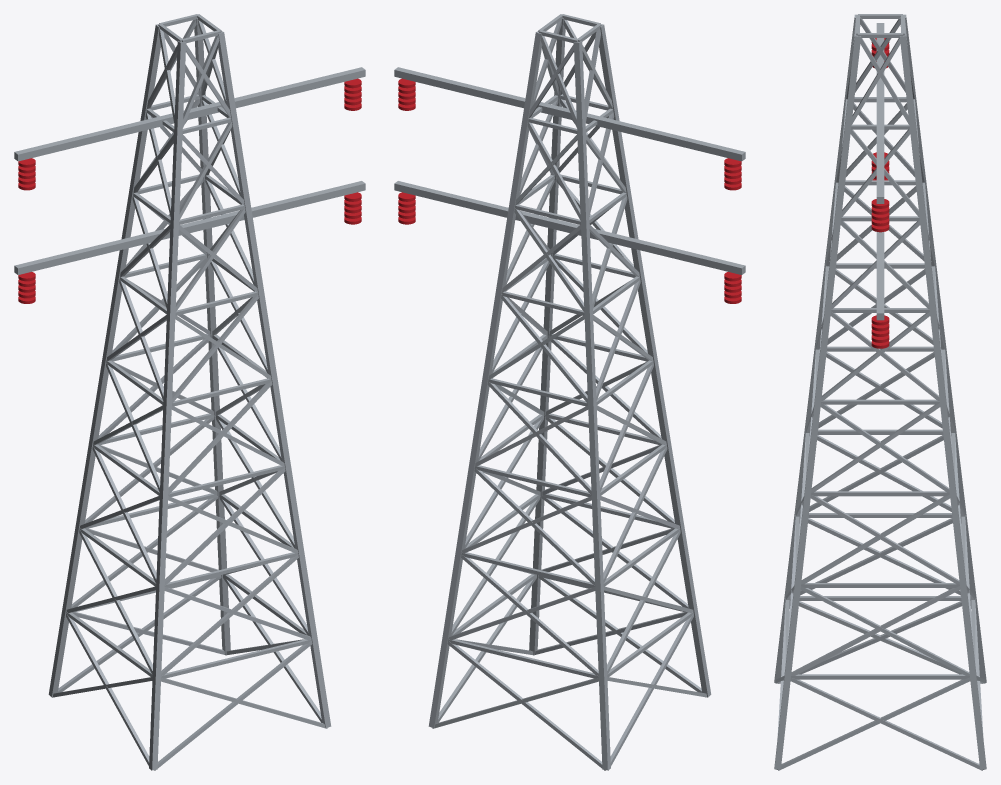
File: power_pylon.glb
The picture shows the model from 3 angles, left to right: view 1: azimuth 30°, elevation 25°; view 2: azimuth 150°, elevation 25°; view 3: azimuth 270°, elevation 25°; orthographic projection. The views are drawn at different scales.
Visible parts, largest first — view 1: PowerPylon; view 2: PowerPylon; view 3: PowerPylon.
Part boxes in pixels (<box>): PowerPylon: <box>14,14,365,770</box>; PowerPylon: <box>394,14,745,770</box>; PowerPylon: <box>774,14,986,770</box>.
Bounding box in the file's own units: 6.4 × 12.06 × 3.3.
